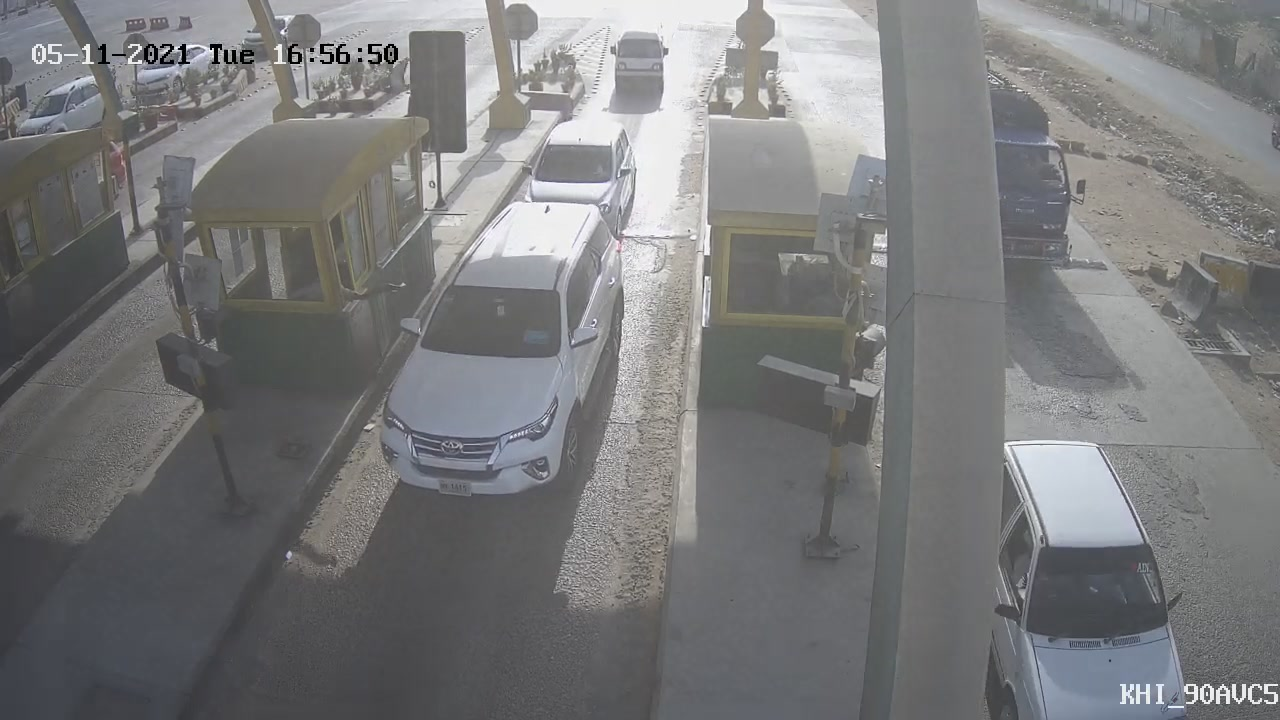F1: (355, 179, 644, 521)
